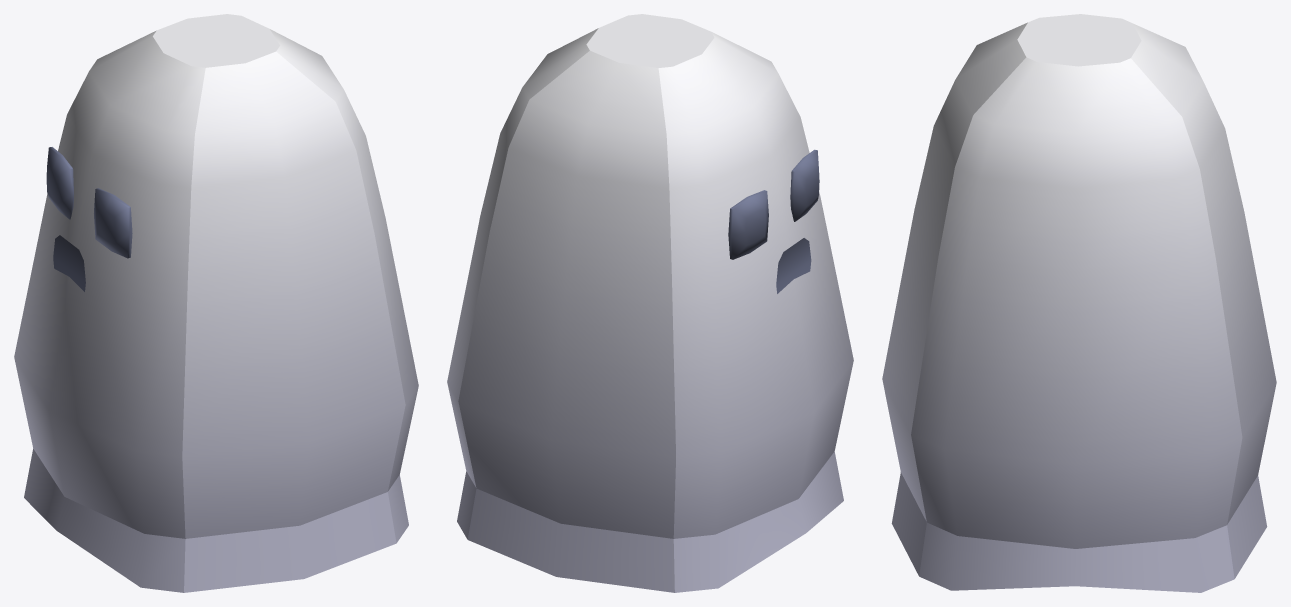
File: torso_lev3.glb
3 renders of one model, left to right at view 1: azimuth 30°, elevation 25°; view 2: azimuth 150°, elevation 25°; view 3: azimuth 270°, elevation 25°, orthographic. The views are drawn at different scales.
Parts seen in each view (by area): view 1: torso_lev3; view 2: torso_lev3; view 3: torso_lev3.
Boxes of the visible parts, box(x1,y1,x2,y2) form: torso_lev3: box(14, 14, 418, 592); torso_lev3: box(447, 14, 853, 592); torso_lev3: box(882, 14, 1276, 592).
Bounding box in the file's own units: 2.93 × 3.98 × 2.93.
1 material, 1 textured.
